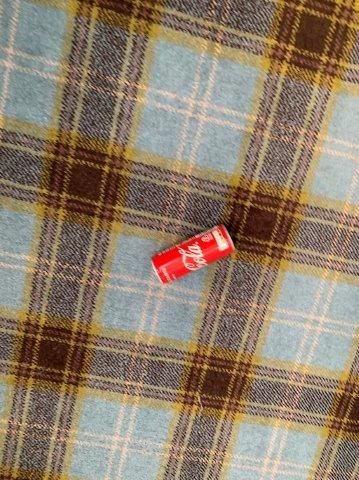kaleng: (153, 225, 234, 285)
